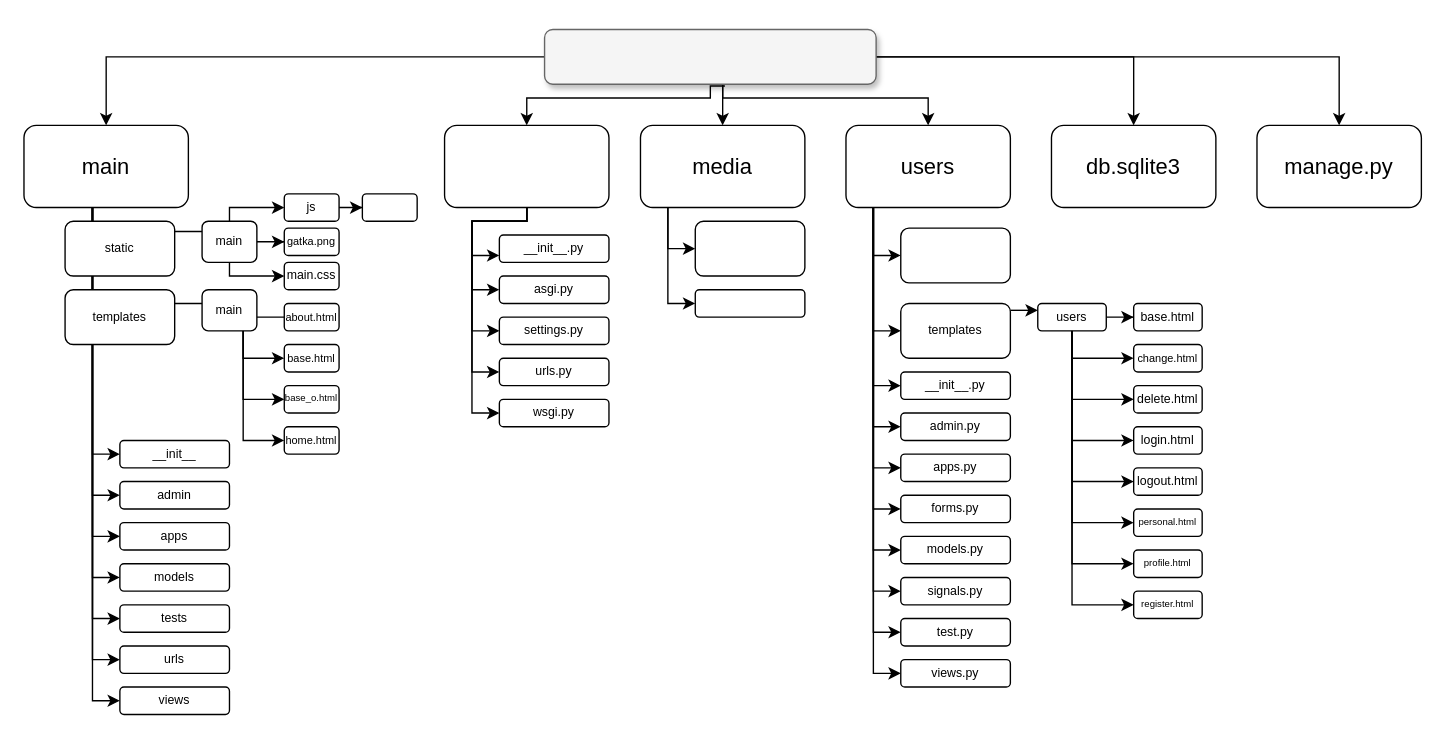
This 1445x738 diagram has some shape labels left out. The centre of each missing label's shape, as x and y in pixels:
"default.jpg" belongs at (x=749, y=302).
"matrix_disabler" belongs at (x=526, y=166).
"MatrixDisabler" belongs at (x=711, y=58).
"migrations" belongs at (x=954, y=255).
"profile_pictures" belongs at (x=749, y=248).
"script.js" belongs at (x=389, y=206).
